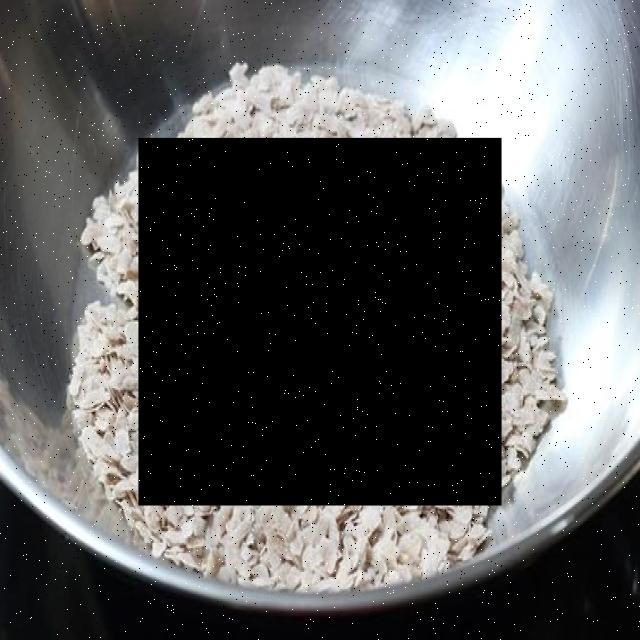Beaten_Rice: (140, 139, 502, 507)
